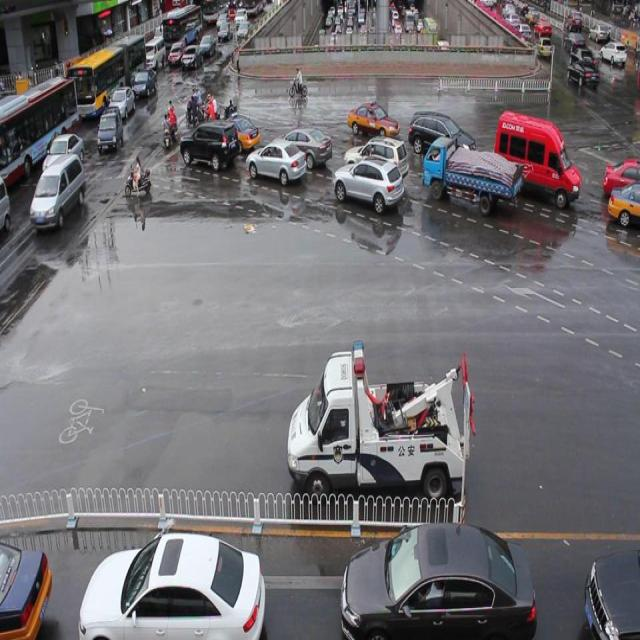bus: (285, 338, 464, 498), (421, 134, 519, 212)
car: (332, 155, 403, 214), (490, 129, 562, 186), (406, 107, 474, 164), (342, 132, 408, 184), (266, 123, 332, 169), (244, 137, 305, 183), (346, 99, 398, 140), (604, 179, 640, 230), (601, 154, 640, 200), (213, 114, 259, 152)
truck: (493, 109, 579, 209), (179, 118, 237, 168)
